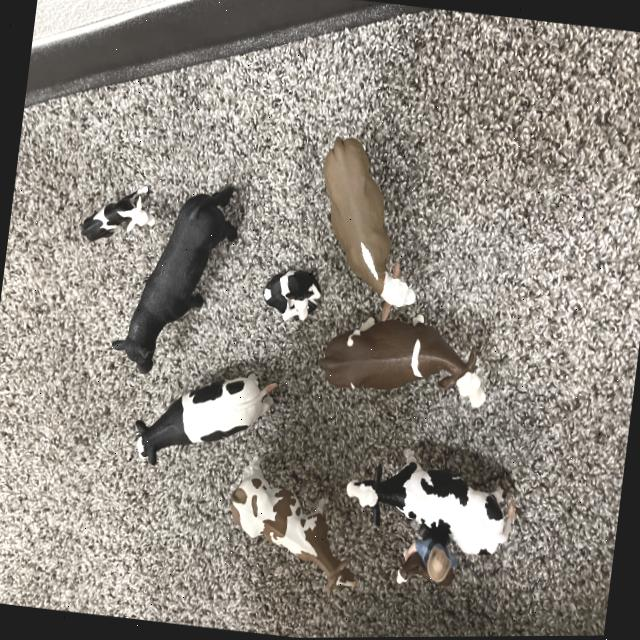cow: (105, 170, 257, 383), (215, 452, 385, 602), (341, 434, 524, 566), (306, 130, 419, 327), (125, 361, 288, 469), (316, 313, 492, 409), (256, 255, 332, 331), (74, 185, 158, 244), (394, 550, 431, 584)
person: (401, 532, 465, 592)
